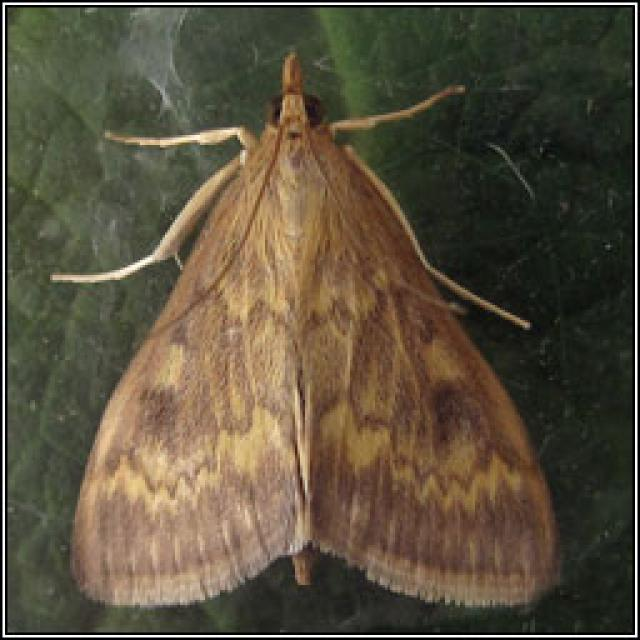cornborer-Adult-: (59, 26, 572, 617)
